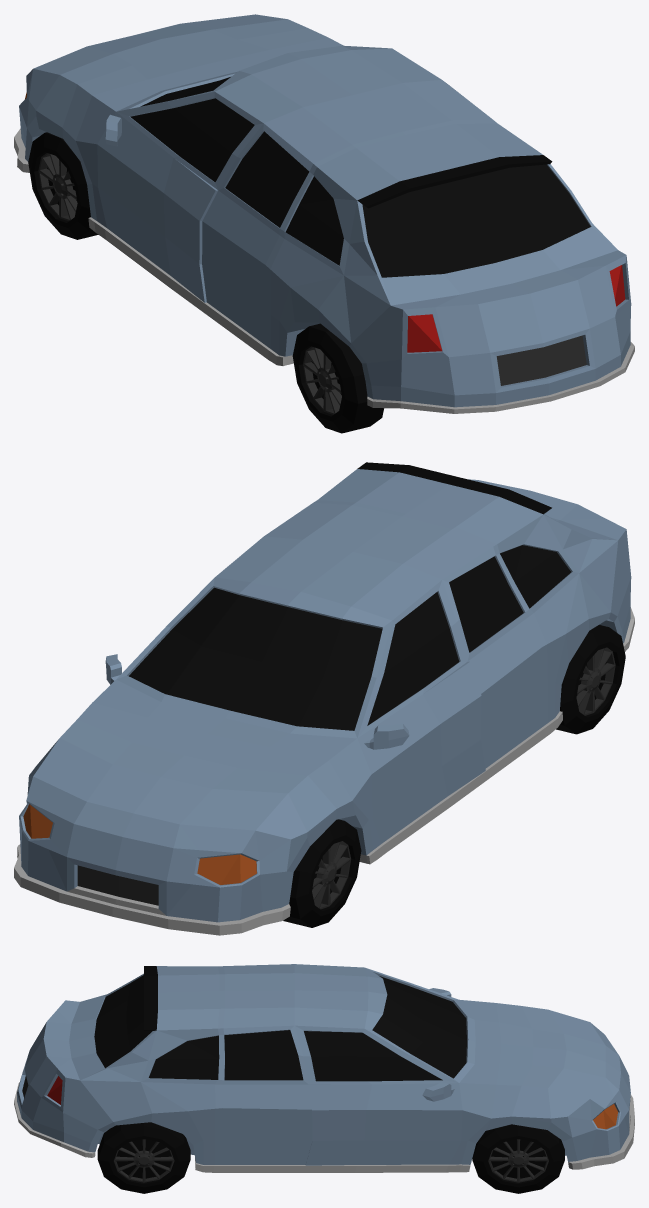
Rendered from NormalCar2.glb.
3 views of the same model, one above another, from view 1: azimuth 30°, elevation 25°; view 2: azimuth 150°, elevation 25°; view 3: azimuth 270°, elevation 25° (orthographic). The views are drawn at different scales.
Visible parts, largest first — view 1: NormalCar2_Cube.002, NormalCar2_BackWheels_Cylinder.003, NormalCar2_FrontLeftWheel_Cylinder.015; view 2: NormalCar2_Cube.002, NormalCar2_FrontLeftWheel_Cylinder.015, NormalCar2_BackWheels_Cylinder.003; view 3: NormalCar2_Cube.002, NormalCar2_BackWheels_Cylinder.003, NormalCar2_FrontRightWheel_Cylinder.016.
Part boxes in pixels (left/top/right/bottom): NormalCar2_Cube.002: left=14, top=14, right=634, bottom=413; NormalCar2_BackWheels_Cylinder.003: left=292, top=323, right=383, bottom=433; NormalCar2_FrontLeftWheel_Cylinder.015: left=28, top=132, right=98, bottom=239; NormalCar2_Cube.002: left=14, top=462, right=634, bottom=935; NormalCar2_FrontLeftWheel_Cylinder.015: left=283, top=819, right=361, bottom=927; NormalCar2_BackWheels_Cylinder.003: left=556, top=625, right=625, bottom=734; NormalCar2_Cube.002: left=14, top=964, right=634, bottom=1172; NormalCar2_BackWheels_Cylinder.003: left=97, top=1122, right=190, bottom=1193; NormalCar2_FrontRightWheel_Cylinder.016: left=472, top=1124, right=564, bottom=1193.
Size of the model in its own units: 1.8 by 1.26 by 4.5.
